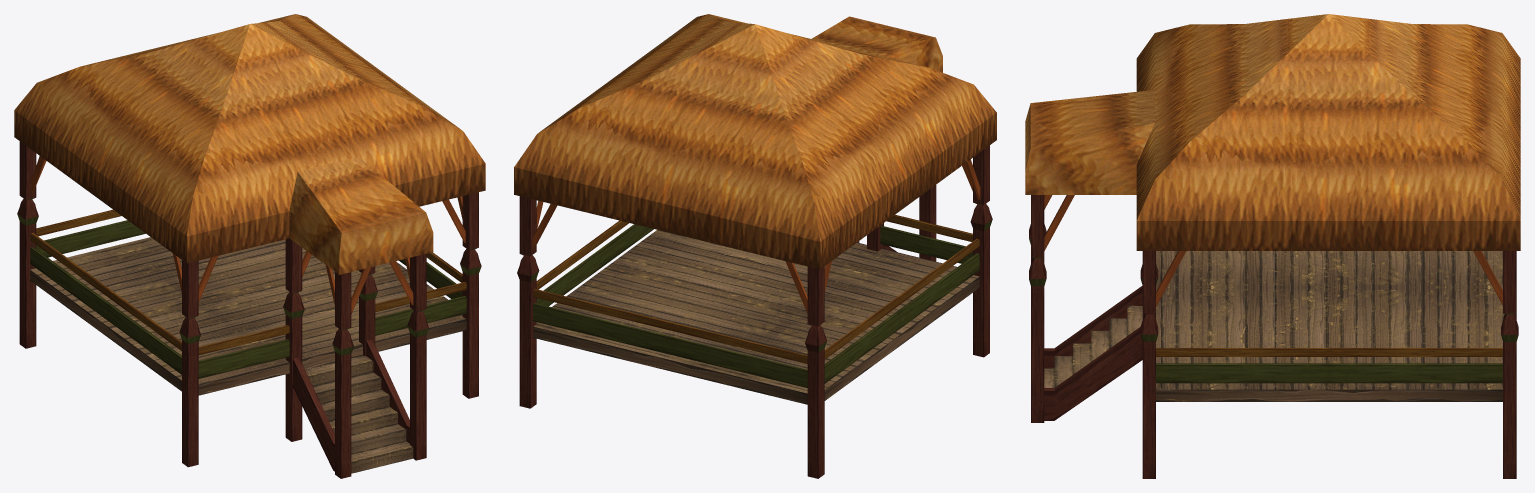
The model's file is Hut_04.FBX.
3 renders of one model, left to right at view 1: azimuth 30°, elevation 25°; view 2: azimuth 150°, elevation 25°; view 3: azimuth 270°, elevation 25°, orthographic. The views are drawn at different scales.
Parts seen in each view (by area): view 1: Hut_04; view 2: Hut_04; view 3: Hut_04.
Part boxes in pixels (x1,y1,x2,y2): Hut_04: [14, 14, 485, 478]; Hut_04: [514, 14, 996, 478]; Hut_04: [1025, 14, 1520, 478].
Size of the model in its own units: 4.73 by 6.1 by 5.24.
